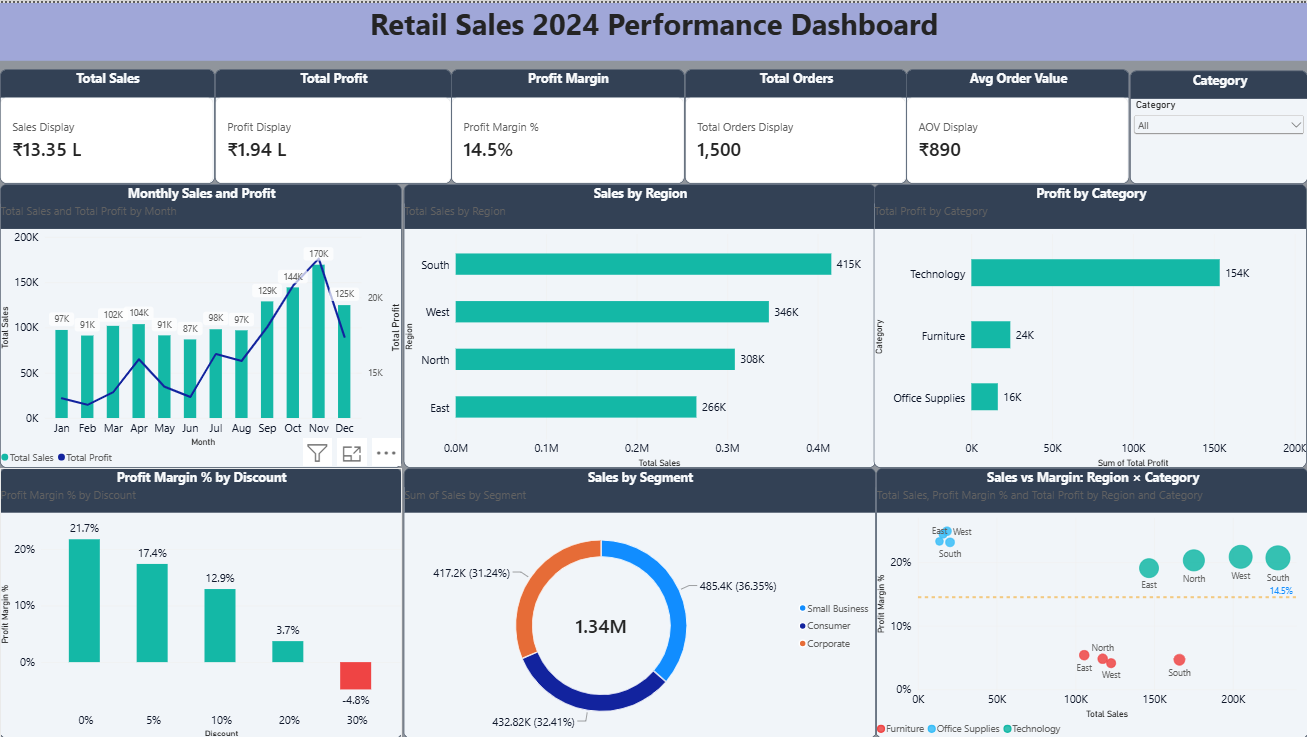

The page's visual inventory and layout, read from the dashboard file:
{"tool":"powerbi","page":{"name":"Page 1","canvas":[1920,1080],"ordinal":0},"visuals":[{"type":"cardVisual","title":"Total Sales","fields":{"Data":["retail_sales_2024_clean.Sales Display"]},"box":[0,97.7,314.9,168.3],"z":0},{"type":"cardVisual","title":"Total Profit","fields":{"Data":["retail_sales_2024_clean.Profit Display"]},"box":[314.9,97.7,347.5,168.3],"z":1000},{"type":"cardVisual","title":"Profit Margin","fields":{"Data":["retail_sales_2024_clean.Profit Margin %"]},"box":[662.3,97.7,342,168.3],"z":2000},{"type":"cardVisual","title":"Total Orders","fields":{"Data":["retail_sales_2024_clean.Total Orders Display"]},"box":[1004.4,97.7,325.7,168.3],"z":3000},{"type":"cardVisual","title":"Avg Order Value","fields":{"Data":["retail_sales_2024_clean.AOV Display"]},"box":[1330.1,97.7,327.5,168.3],"z":4000},{"type":"lineClusteredColumnComboChart","title":"Monthly Sales and Profit","fields":{"Category":["retail_sales_2024_clean.Month"],"Y":["retail_sales_2024_clean.Total Sales"],"Y2":["retail_sales_2024_clean.Total Profit"]},"box":[0,266,589.9,416.2],"z":5000},{"type":"clusteredBarChart","title":"Sales by Region","fields":{"Category":["retail_sales_2024_clean.Region"],"Y":["retail_sales_2024_clean.Total Sales"]},"box":[591.8,266,693.1,416.2],"z":6000},{"type":"clusteredBarChart","title":"Profit by Category","fields":{"Category":["retail_sales_2024_clean.Category"],"Y":["retail_sales_2024_clean.Total Profit"]},"box":[1283,266,637,416.2],"z":7000},{"type":"clusteredColumnChart","title":"Profit Margin % by Discount","fields":{"Category":["retail_sales_2024_clean.Discount"],"Y":["retail_sales_2024_clean.Profit Margin %"]},"box":[0,682.2,589.9,398.1],"z":8000},{"type":"slicer","title":"Category","fields":{"Values":["retail_sales_2024_clean.Category"]},"box":[1657.6,99.5,262.4,166.5],"z":9000},{"type":"textbox","box":[0,0,1920.1,85.1],"z":10000},{"type":"donutChart","title":"Sales by Segment","fields":{"Category":["retail_sales_2024_clean.Segment"],"Y":["Sum(retail_sales_2024_clean.Sales)"]},"box":[592,682,693,398],"z":11000},{"type":"scatterChart","title":"Sales vs Margin: Region × Category","fields":{"Category":["retail_sales_2024_clean.Region"],"Series":["retail_sales_2024_clean.Category"],"Size":["retail_sales_2024_clean.Total Profit"],"X":["retail_sales_2024_clean.Total Sales"],"Y":["retail_sales_2024_clean.Profit Margin %"]},"box":[1285,682,635,398],"z":11001}]}

Visuals, with their boxes in screenshot pixels (x1, y1, x2, y2), scaled from the page's 1920x1080 canvas onto the 1307x737 screenshot:
"Total Sales" cardVisual: [left=0, top=67, right=214, bottom=182]
"Total Profit" cardVisual: [left=214, top=67, right=451, bottom=182]
"Profit Margin" cardVisual: [left=451, top=67, right=684, bottom=182]
"Total Orders" cardVisual: [left=684, top=67, right=905, bottom=182]
"Avg Order Value" cardVisual: [left=905, top=67, right=1128, bottom=182]
"Monthly Sales and Profit" lineClusteredColumnComboChart: [left=0, top=182, right=402, bottom=466]
"Sales by Region" clusteredBarChart: [left=403, top=182, right=875, bottom=466]
"Profit by Category" clusteredBarChart: [left=873, top=182, right=1306, bottom=466]
"Profit Margin % by Discount" clusteredColumnChart: [left=0, top=466, right=402, bottom=736]
"Category" slicer: [left=1128, top=68, right=1306, bottom=182]
textbox: [left=0, top=0, right=1306, bottom=58]
"Sales by Segment" donutChart: [left=403, top=465, right=875, bottom=736]
"Sales vs Margin: Region × Category" scatterChart: [left=875, top=465, right=1306, bottom=736]
